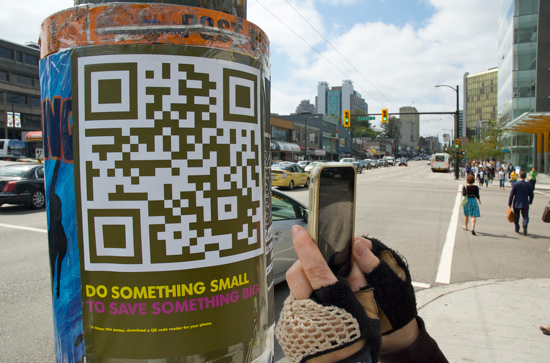QR-CODE: (84, 62, 260, 263)
